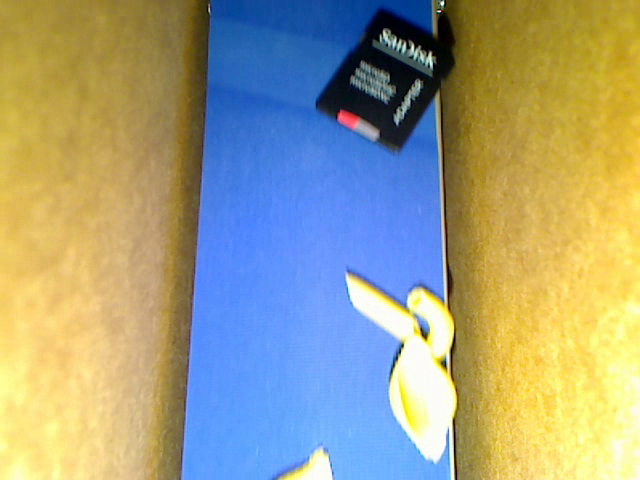elbow: (404, 284, 455, 361)
penne: (344, 271, 421, 344)
shell: (389, 330, 458, 464), (274, 445, 334, 479)
